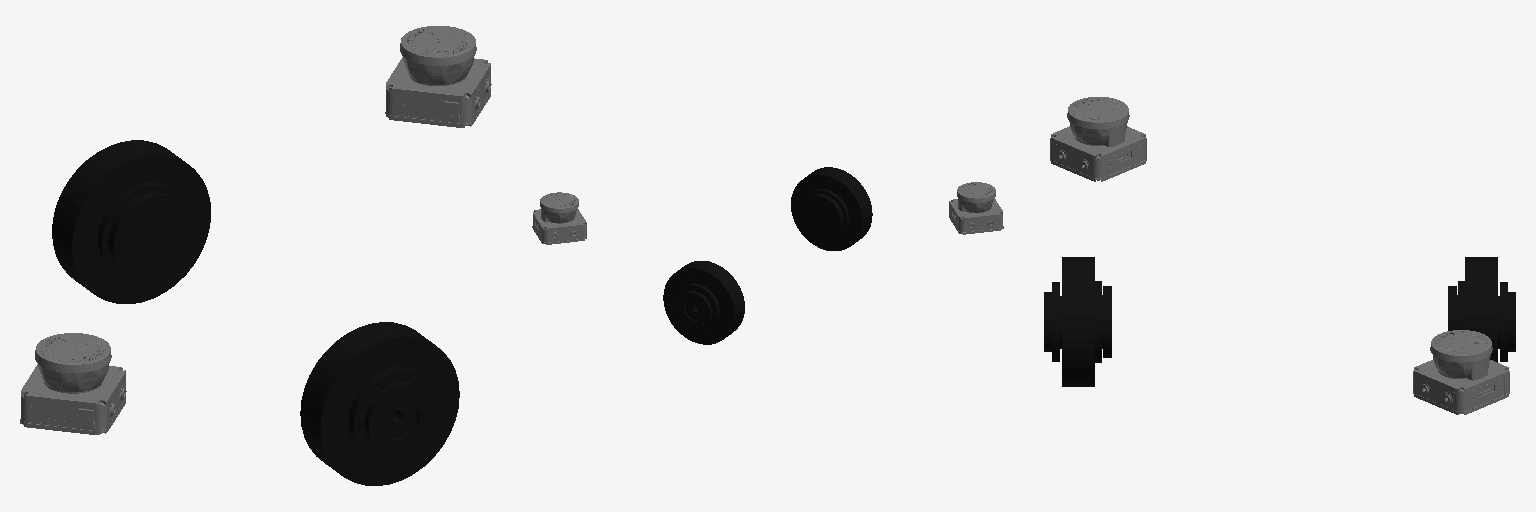
The robot description file, URDF, robot "seer_amb":
<?xml version="1.0" ?>
<!-- =================================================================================== -->
<!-- |    This document was autogenerated by xacro from src/AuboAMR300_ROS2/seer_description/urdf/seer_robot_base.urdf.xacro | -->
<!-- |    EDITING THIS FILE BY HAND IS NOT RECOMMENDED                                 | -->
<!-- =================================================================================== -->
<robot name="seer_amb">
  <link name="base_footprint"/>
  <joint name="base_joint" type="fixed">
    <parent link="base_footprint"/>
    <child link="base_link"/>
    <origin rpy="0 0 0" xyz="0.0 0.0 0.0"/>
  </joint>
  <link name="base_link">
    <visual>
      <origin rpy="0 0 3.141592653589793" xyz="0 0 0.26"/>
      <geometry>
        <mesh filename="package://seer_description/meshes/robot_body.stl" scale="0.1 0.1 0.1"/>
      </geometry>
      <material name="orange">
        <color rgba="0.922 0.57 0.82 1.0"/>
      </material>
    </visual>
    <collision>
      <origin rpy="0 0 0" xyz="0 0 0.2"/>
      <geometry>
        <box size="0.8 0.5 0.3"/>
      </geometry>
    </collision>
    <inertial>
      <origin rpy="0 0 0" xyz="0 0 0.15"/>
      <mass value="110.0"/>
      <inertia ixx="3.11" ixy="0.0" ixz="0.0" iyy="6.68" iyz="0.0" izz="8.15"/>
    </inertial>
  </link>
  <link name="left_wheel_link">
    <visual>
      <origin rpy="0 0 0" xyz="0 0 0"/>
      <geometry>
        <mesh filename="package://seer_description/meshes/left_wheel.stl" scale="0.1 0.1 0.1"/>
      </geometry>
      <material name="black">
        <color rgba="0.1 0.1 0.1 1.0"/>
      </material>
    </visual>
    <collision>
      <origin rpy="1.5707963267948966 0 0" xyz="0 0 0"/>
      <geometry>
        <cylinder length="0.05" radius="0.1"/>
      </geometry>
    </collision>
    <inertial>
      <origin rpy="1.5707963267948966 0 0" xyz="0 0 0"/>
      <mass value="6.0"/>
      <inertia ixx="0.01" ixy="0.0" ixz="0.0" iyy="0.01" iyz="0.0" izz="0.01"/>
    </inertial>
  </link>
  <joint name="left_wheel_joint" type="continuous">
    <parent link="base_link"/>
    <child link="left_wheel_link"/>
    <origin rpy="0 0 0" xyz="0.0 0.3 0.1"/>
    <axis xyz="0 1 0"/>
  </joint>
  <link name="right_wheel_link">
    <visual>
      <origin rpy="0 0 0" xyz="0 0 0"/>
      <geometry>
        <mesh filename="package://seer_description/meshes/right_wheel.stl" scale="0.1 0.1 0.1"/>
      </geometry>
      <material name="black">
        <color rgba="0.1 0.1 0.1 1.0"/>
      </material>
    </visual>
    <collision>
      <origin rpy="1.5707963267948966 0 0" xyz="0 0 0"/>
      <geometry>
        <cylinder length="0.05" radius="0.1"/>
      </geometry>
    </collision>
    <inertial>
      <origin rpy="1.5707963267948966 0 0" xyz="0 0 0"/>
      <mass value="6.0"/>
      <inertia ixx="0.01" ixy="0.0" ixz="0.0" iyy="0.01" iyz="0.0" izz="0.01"/>
    </inertial>
  </link>
  <joint name="right_wheel_joint" type="continuous">
    <parent link="base_link"/>
    <child link="right_wheel_link"/>
    <origin rpy="0 0 0" xyz="0.0 -0.3 0.1"/>
    <axis xyz="0 1 0"/>
  </joint>
  <link name="front_lidar_link">
    <visual>
      <origin rpy="0 0 0" xyz="0 0 0"/>
      <geometry>
        <mesh filename="package://seer_description/meshes/lidar.stl" scale="0.1 0.1 0.1"/>
      </geometry>
      <material name="grey">
        <color rgba="0.5 0.5 0.5 1.0"/>
      </material>
    </visual>
    <collision>
      <origin rpy="0 0 0" xyz="0 0 0"/>
      <geometry>
        <cylinder length="0.08" radius="0.05"/>
      </geometry>
    </collision>
    <inertial>
      <origin rpy="0 0 0" xyz="0 0 0"/>
      <mass value="0.3"/>
      <inertia ixx="0.01" ixy="0.0" ixz="0.0" iyy="0.01" iyz="0.0" izz="0.01"/>
    </inertial>
  </link>
  <joint name="front_lidar_joint" type="fixed">
    <parent link="base_link"/>
    <child link="front_lidar_link"/>
    <origin rpy="0 0 0" xyz="0.38 0.25 0.2"/>
  </joint>
  <link name="back_lidar_link">
    <visual>
      <origin rpy="0 0 0" xyz="0 0 0"/>
      <geometry>
        <mesh filename="package://seer_description/meshes/lidar.stl" scale="0.1 0.1 0.1"/>
      </geometry>
      <material name="grey">
        <color rgba="0.5 0.5 0.5 1.0"/>
      </material>
    </visual>
    <collision>
      <origin rpy="0 0 0" xyz="0 0 0"/>
      <geometry>
        <cylinder length="0.08" radius="0.05"/>
      </geometry>
    </collision>
    <inertial>
      <origin rpy="0 0 0" xyz="0 0 0"/>
      <mass value="0.3"/>
      <inertia ixx="0.01" ixy="0.0" ixz="0.0" iyy="0.01" iyz="0.0" izz="0.01"/>
    </inertial>
  </link>
  <joint name="back_lidar_joint" type="fixed">
    <parent link="base_link"/>
    <child link="back_lidar_link"/>
    <origin rpy="0 0 0" xyz="-0.38 -0.25 0.2"/>
  </joint>
  <link name="front_caster">
    <collision>
      <origin rpy="0 0 0" xyz="0 0 0"/>
      <geometry>
        <sphere radius="0.095"/>
      </geometry>
    </collision>
    <inertial>
      <mass value="1.0"/>
      <inertia ixx="0.01" ixy="0" ixz="0" iyy="0.01" iyz="0" izz="0.01"/>
    </inertial>
  </link>
  <link name="rear_caster">
    <collision>
      <origin rpy="0 0 0" xyz="0 0 0"/>
      <geometry>
        <sphere radius="0.095"/>
      </geometry>
    </collision>
    <inertial>
      <mass value="1.0"/>
      <inertia ixx="0.01" ixy="0" ixz="0" iyy="0.01" iyz="0" izz="0.01"/>
    </inertial>
  </link>
  <joint name="front_caster_joint" type="fixed">
    <parent link="base_link"/>
    <child link="front_caster"/>
    <origin rpy="0 0 0" xyz="0.3 0 0.095"/>
  </joint>
  <joint name="rear_caster_joint" type="fixed">
    <parent link="base_link"/>
    <child link="rear_caster"/>
    <origin rpy="0 0 0" xyz="-0.3 0 0.095"/>
  </joint>
  <!-- control simulation gazebo -->
  <gazebo reference="base_link">
    <material>Gazebo/White</material>
  </gazebo>
  <gazebo reference="left_wheel_link">
    <material>Gazebo/Black</material>
    <mu1>1.0</mu1>
    <mu2>1.0</mu2>
  </gazebo>
  <gazebo reference="right_wheel_link">
    <material>Gazebo/Black</material>
    <mu1>1.0</mu1>
    <mu2>1.0</mu2>
  </gazebo>
  <gazebo reference="front_caster">
    <mu1>0.0</mu1>
    <mu2>0.0</mu2>
    <material>Gazebo/Grey</material>
  </gazebo>
  <gazebo reference="rear_caster">
    <mu1>0.0</mu1>
    <mu2>0.0</mu2>
    <material>Gazebo/Grey</material>
  </gazebo>
  <gazebo>
    <plugin filename="gz-sim-diff-drive-system" name="gz::sim::systems::DiffDrive">
      <left_joint>left_wheel_joint</left_joint>
      <right_joint>right_wheel_joint</right_joint>
      <wheel_separation>0.6</wheel_separation>
      <wheel_radius>0.1</wheel_radius>
      <max_linear_acceleration>1.0</max_linear_acceleration>
      <max_angular_acceleration>1.0</max_angular_acceleration>
      <max_linear_velocity>1.5</max_linear_velocity>
      <max_angular_velocity>0.5</max_angular_velocity>
      <topic>cmd_vel</topic>
      <odom_topic>odom</odom_topic>
      <frame_id>odom</frame_id>
      <child_frame_id>base_footprint</child_frame_id>
      <odom_publisher_frequency>30</odom_publisher_frequency>
    </plugin>
    <plugin filename="gz-sim-joint-state-publisher-system" name="gz::sim::systems::JointStatePublisher">
      <topic>joint_states</topic>
      <joint_name>left_wheel_joint</joint_name>
      <joint_name>right_wheel_joint</joint_name>
    </plugin>
  </gazebo>
  <gazebo reference="front_lidar_link">
    <sensor name="front_lidar_sensor" type="gpu_lidar">
      <topic>/lidar_front</topic>
      <gz_frame_id>front_lidar_link</gz_frame_id>
      <update_rate>10</update_rate>
      <ray>
        <scan>
          <horizontal>
            <samples>360</samples>
            <resolution>1</resolution>
            <min_angle>-3.14159</min_angle>
            <max_angle>3.14159</max_angle>
          </horizontal>
          <vertical>
            <samples>16</samples>
            <resolution>1</resolution>
            <min_angle>-0.2618</min_angle>
            <max_angle>0.2618</max_angle>
          </vertical>
        </scan>
        <range>
          <min>0.2</min>
          <max>30.0</max>
          <resolution>0.01</resolution>
        </range>
      </ray>
      <always_on>1</always_on>
      <visualize>true</visualize>
    </sensor>
  </gazebo>
  <gazebo reference="back_lidar_link">
    <sensor name="back_lidar_sensor" type="gpu_lidar">
      <topic>/lidar_back</topic>
      <gz_frame_id>back_lidar_link</gz_frame_id>
      <update_rate>10</update_rate>
      <ray>
        <scan>
          <horizontal>
            <samples>360</samples>
            <resolution>1</resolution>
            <min_angle>-3.14159</min_angle>
            <max_angle>3.14159</max_angle>
          </horizontal>
          <vertical>
            <samples>16</samples>
            <resolution>1</resolution>
            <min_angle>-0.2618</min_angle>
            <max_angle>0.2618</max_angle>
          </vertical>
        </scan>
        <range>
          <min>0.2</min>
          <max>30.0</max>
          <resolution>0.01</resolution>
        </range>
      </ray>
      <always_on>1</always_on>
      <visualize>true</visualize>
    </sensor>
  </gazebo>
  <gazebo>
    <plugin filename="gz-sim-sensors-system" name="gz::sim::systems::Sensors">
      <render_engine>ogre2</render_engine>
    </plugin>
  </gazebo>
</robot>

--- Render facts (derived) ---
The picture shows the robot from 3 angles, left to right: view 1: azimuth 30°, elevation 25°; view 2: azimuth 150°, elevation 25°; view 3: azimuth 270°, elevation 25°; orthographic projection.
Robot: seer_amb — 8 links, 7 joints (2 continuous, 5 fixed); root link base_footprint; default pose: all joints at 0.
Links seen in each view (by area): view 1: right_wheel_link, left_wheel_link, back_lidar_link, front_lidar_link; view 2: right_wheel_link, left_wheel_link, back_lidar_link, front_lidar_link; view 3: right_wheel_link, front_lidar_link, back_lidar_link, left_wheel_link.
Link boxes in pixels (x1,y1,x2,y2): right_wheel_link: (300,322,459,485); left_wheel_link: (52,140,210,303); back_lidar_link: (20,333,126,434); front_lidar_link: (385,26,491,127); right_wheel_link: (791,167,872,250); left_wheel_link: (663,261,744,344); back_lidar_link: (949,182,1003,234); front_lidar_link: (532,192,586,244); right_wheel_link: (1044,257,1111,386); front_lidar_link: (1413,330,1509,414); back_lidar_link: (1050,97,1146,181); left_wheel_link: (1448,257,1515,362).
Bounding box of the posed robot: 0.8929 × 0.6486 × 0.2366 m (x, y, z).
Meshes: 4 distinct files referenced, 4 mesh visuals loaded (3 binary STL); not drawn: 1 (reference not matched to a file when rendering).
